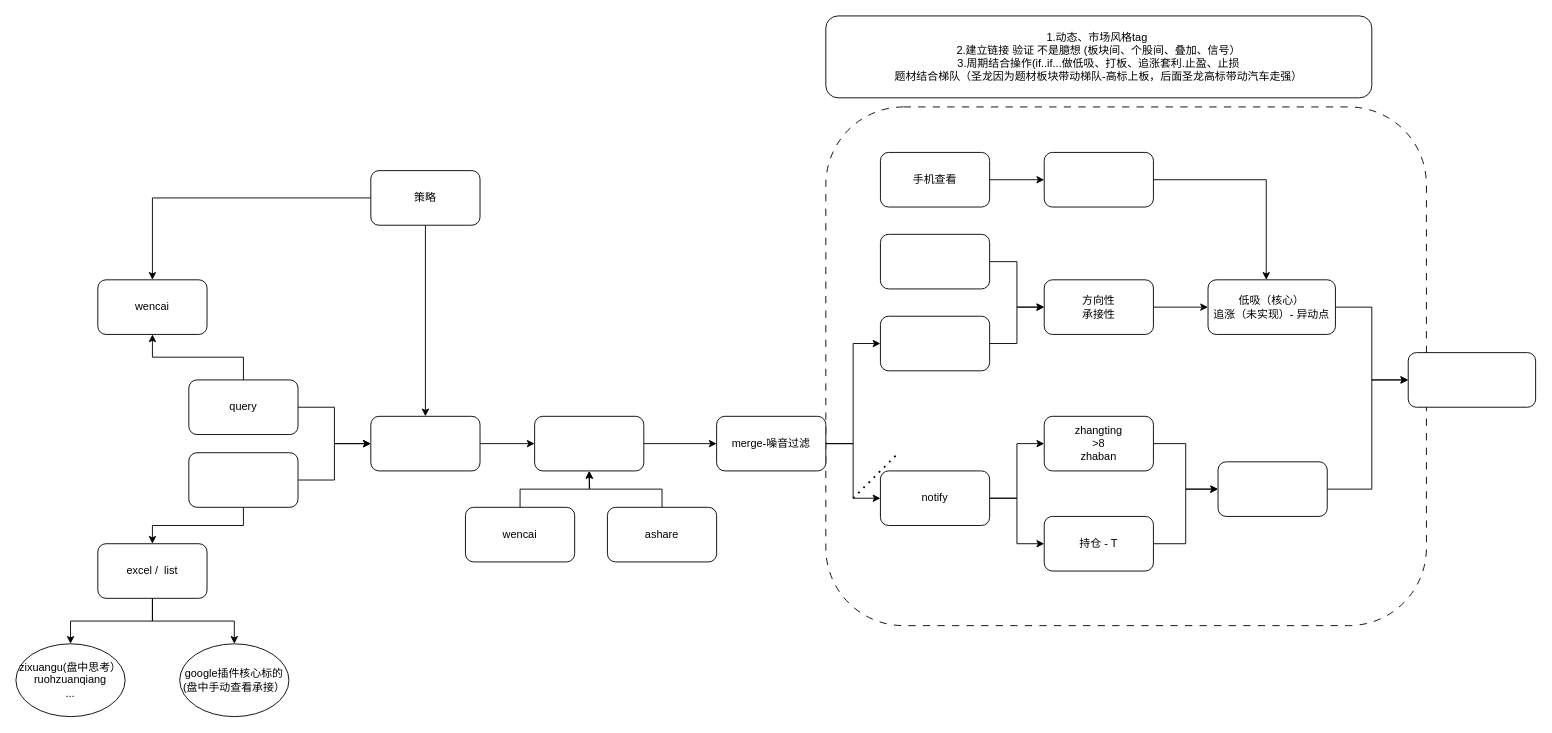
Image size: 1552x733. Some labels were removed from this diagram. The shapes that lost their labels are listed below. From the top down, each one's centre as x and y in pixels, then its label:
the point at 1098,179: 资金流入 涨跌家数 个股形态(也可以通过超链接)
the point at 935,261: google插件
the point at 935,343: 盘中其他数据(zixuan、ruozhuanqiang、renqibang、 >5
the point at 1471,379: 下单 checklist
the point at 425,443: python / 自动化
the point at 589,443: API
the point at 243,479: zixuan
the point at 1272,488: 打板 T 卖出
